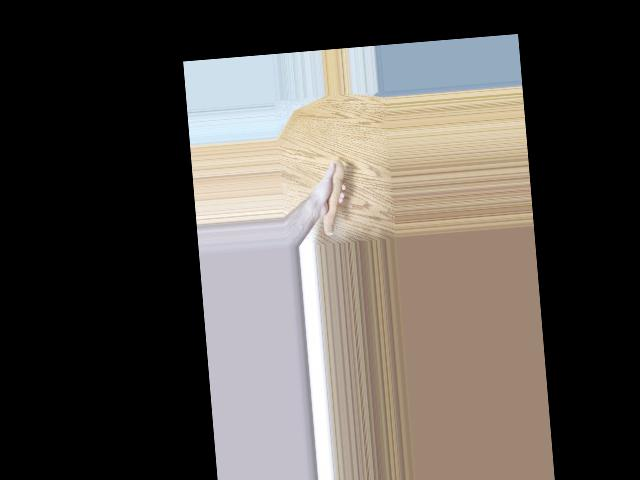sweet_potato: (317, 160, 349, 236)
